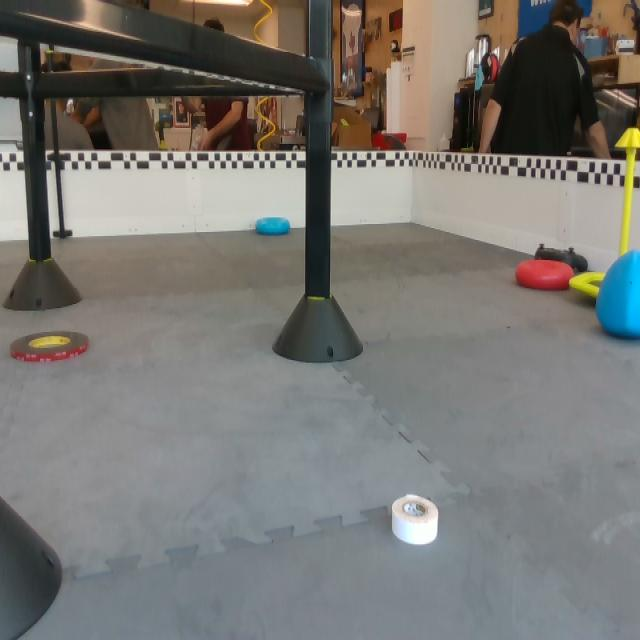Blue-Ring: (256, 214, 293, 240)
Mobile-Goal: (566, 128, 639, 300)
Red-Ring: (512, 260, 576, 294)
Yellow-Stake-Head: (615, 128, 640, 148)
